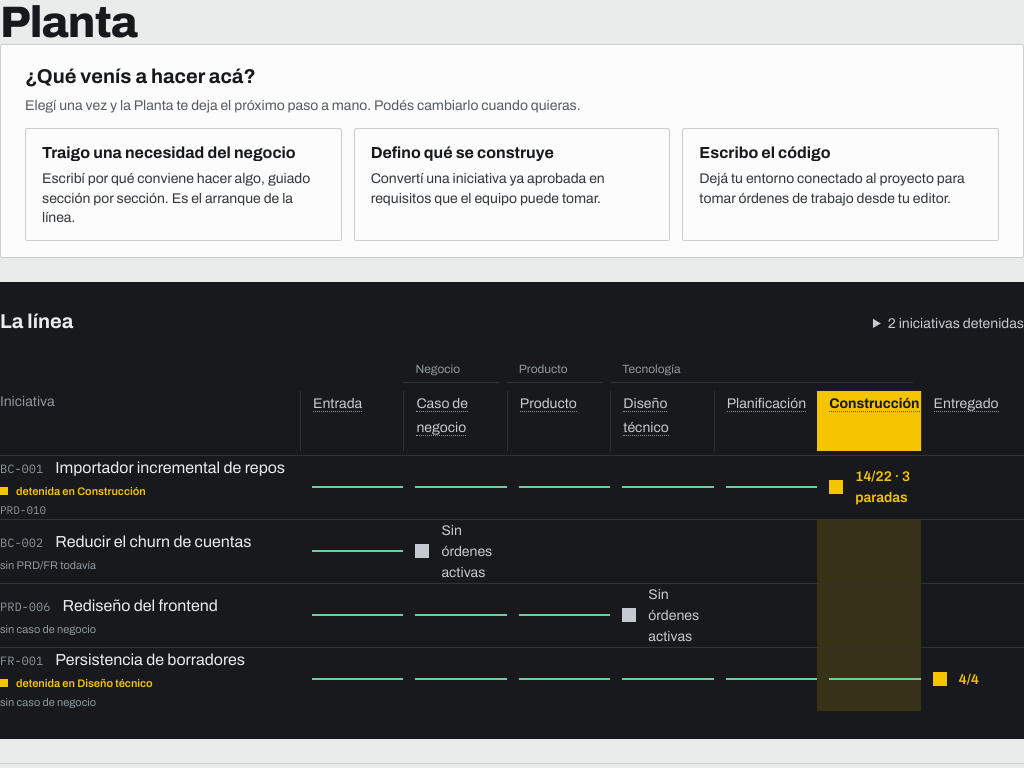
Test: Planta › collapses the stopped initiatives behind a counted summary, closed by default
This screenshot has width=1024, height=768.
Click the heading "2 iniciativas detenidas" at (948, 323), box [873, 313, 1023, 334]
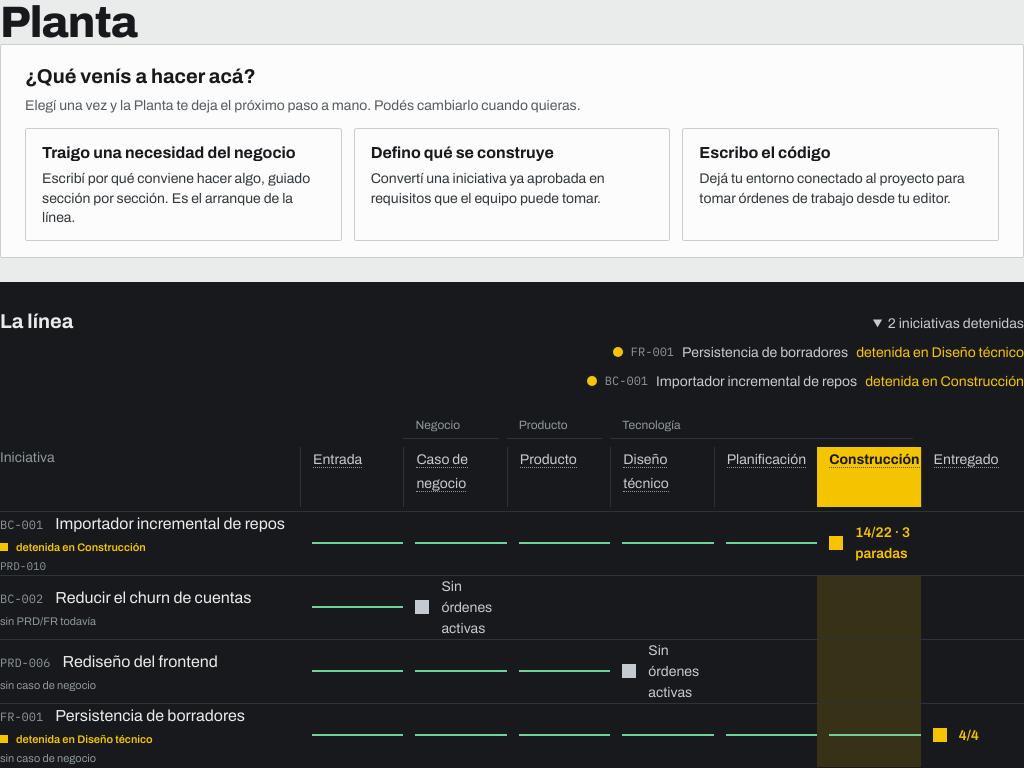
Expected: the link named "BC-001 Importador incremental de repos, línea detenida en Construcción. Ver drift." is shown, [587, 371, 1023, 392]
Expected: the link named "FR-001 Persistencia de borradores, línea detenida en Diseño técnico. Ver drift." is shown, [613, 342, 1023, 363]
